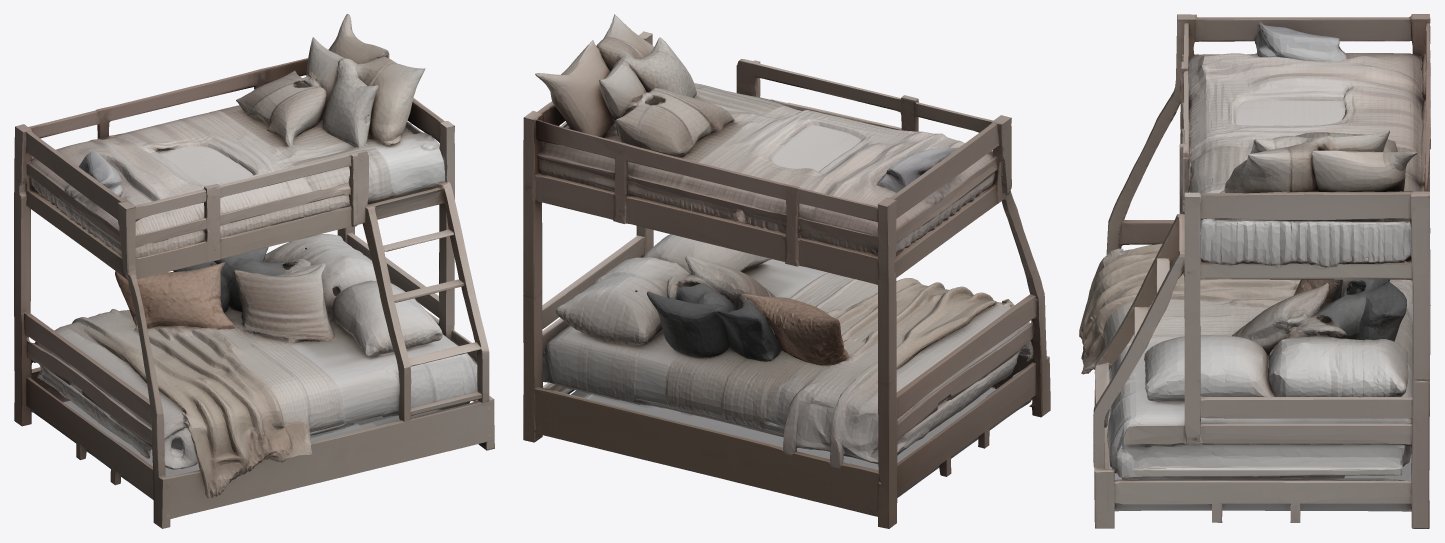
File: LITERA VENTO.glb
The picture shows the model from 3 angles, left to right: view 1: azimuth 30°, elevation 25°; view 2: azimuth 150°, elevation 25°; view 3: azimuth 270°, elevation 25°; orthographic projection. The views are drawn at different scales.
Parts seen in each view (by area): view 1: world; view 2: world; view 3: world.
Part boxes in pixels (x1=…): world: x1=14, y1=14, x2=494, y2=528; world: x1=523, y1=14, x2=1050, y2=528; world: x1=1079, y1=14, x2=1430, y2=528.
Bounding box in the file's own units: 1 × 0.9493 × 0.8091.
Materials: 1 (1 with a texture image).
